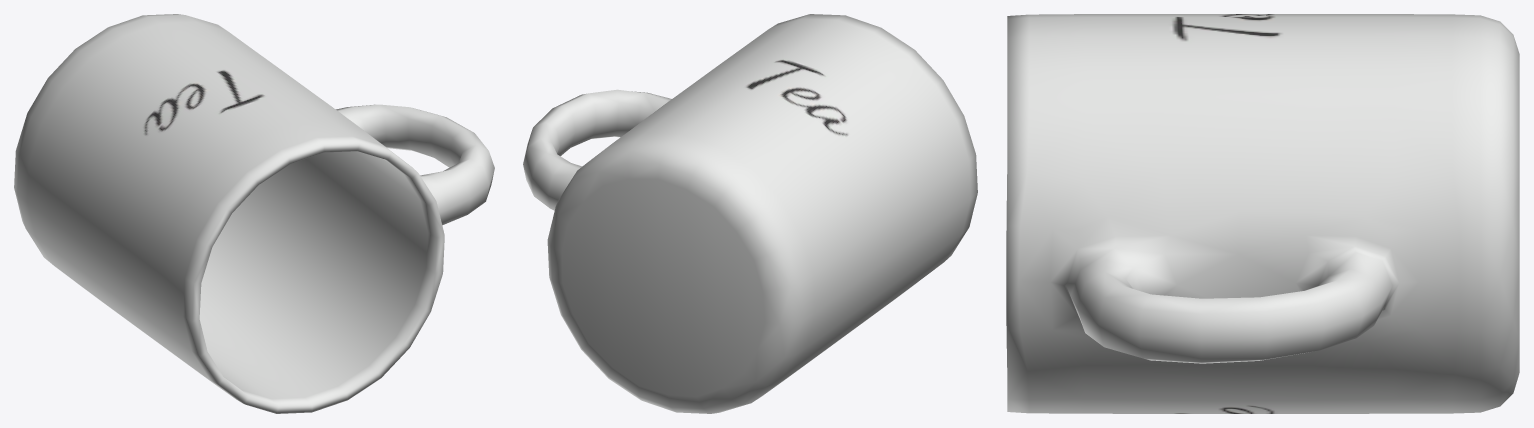
File: Coffee.gltf
3 renders of one model, left to right at view 1: azimuth 30°, elevation 25°; view 2: azimuth 150°, elevation 25°; view 3: azimuth 270°, elevation 25°, orthographic. The views are drawn at different scales.
Parts seen in each view (by area): view 1: [BuildingBlock] Cube; view 2: [BuildingBlock] Cube; view 3: [BuildingBlock] Cube.
Boxes of the visible parts, left/top/right/bottom form: [BuildingBlock] Cube: left=14, top=14, right=494, bottom=413; [BuildingBlock] Cube: left=523, top=14, right=977, bottom=413; [BuildingBlock] Cube: left=1006, top=14, right=1519, bottom=413.
Size of the model in its own units: 0.1375 by 0.0976 by 0.1249.
1 material, 1 textured.
